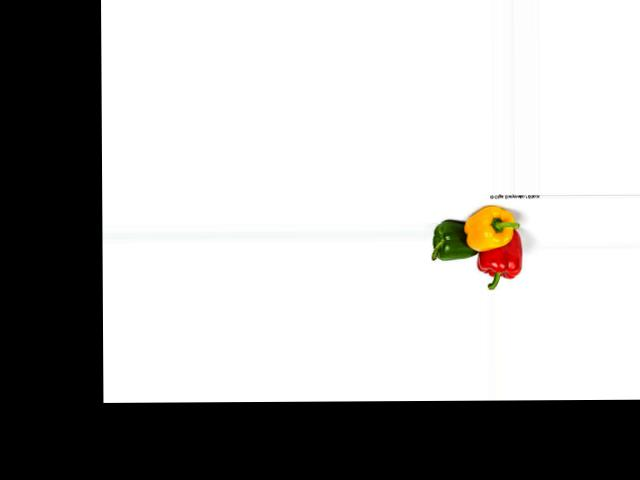bell_pepper: (476, 232, 526, 289)
